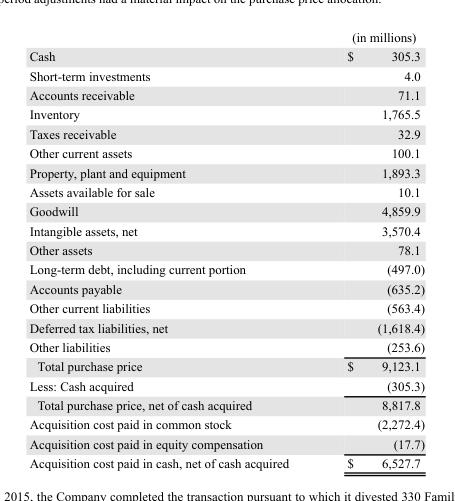table: (28, 29, 424, 470)
table column: (28, 29, 317, 470), (317, 29, 424, 470)
table column header: (28, 29, 424, 46)
table row: (28, 84, 424, 104), (28, 123, 424, 143), (28, 181, 424, 201), (28, 220, 424, 240), (28, 278, 424, 298), (28, 336, 424, 356), (28, 375, 424, 395), (28, 433, 424, 453), (28, 46, 424, 65), (28, 65, 424, 84), (28, 104, 424, 123), (28, 143, 424, 162), (28, 162, 424, 181), (28, 201, 424, 220), (28, 240, 424, 259), (28, 259, 424, 278), (28, 298, 424, 317), (28, 317, 424, 336), (28, 356, 424, 375), (28, 395, 424, 414), (28, 414, 424, 433), (28, 29, 424, 46), (28, 453, 424, 470)
